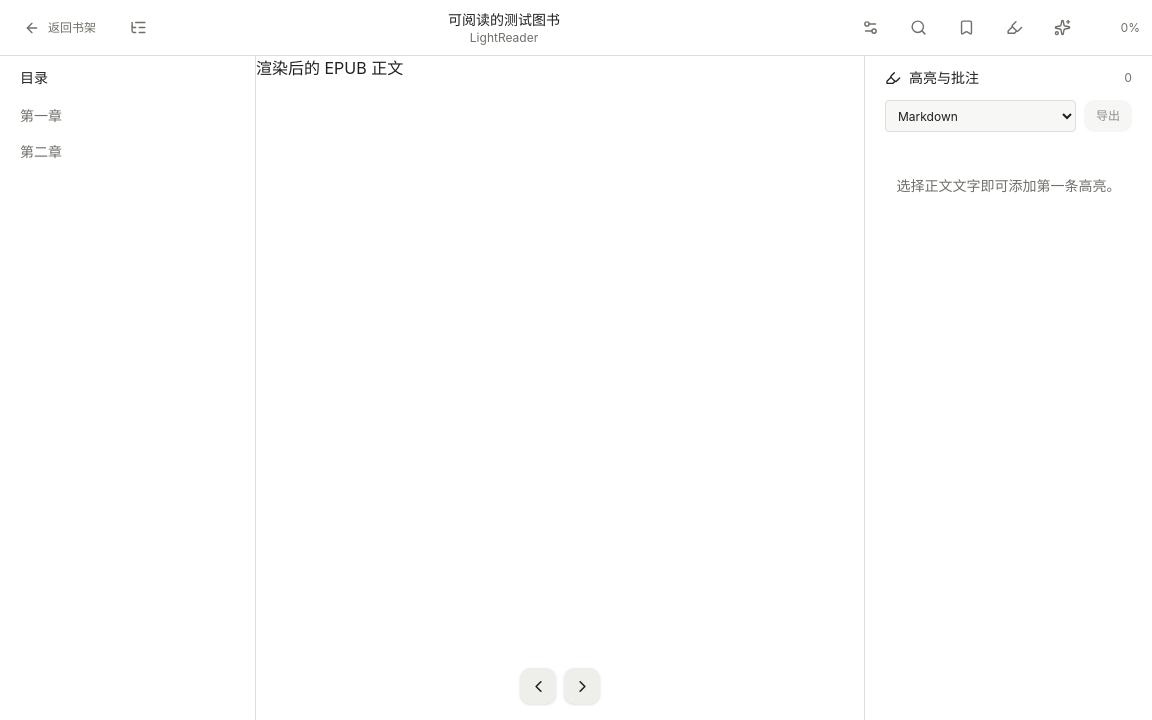
Test case: ReaderPage › uses one accessible right sidebar and restores focus after closing AI
Check: the button "第一章" is shown, box [12,100,243,132]
Click the button named "显示 AI 助手" at (1062, 28), box [1044,10,1080,46]
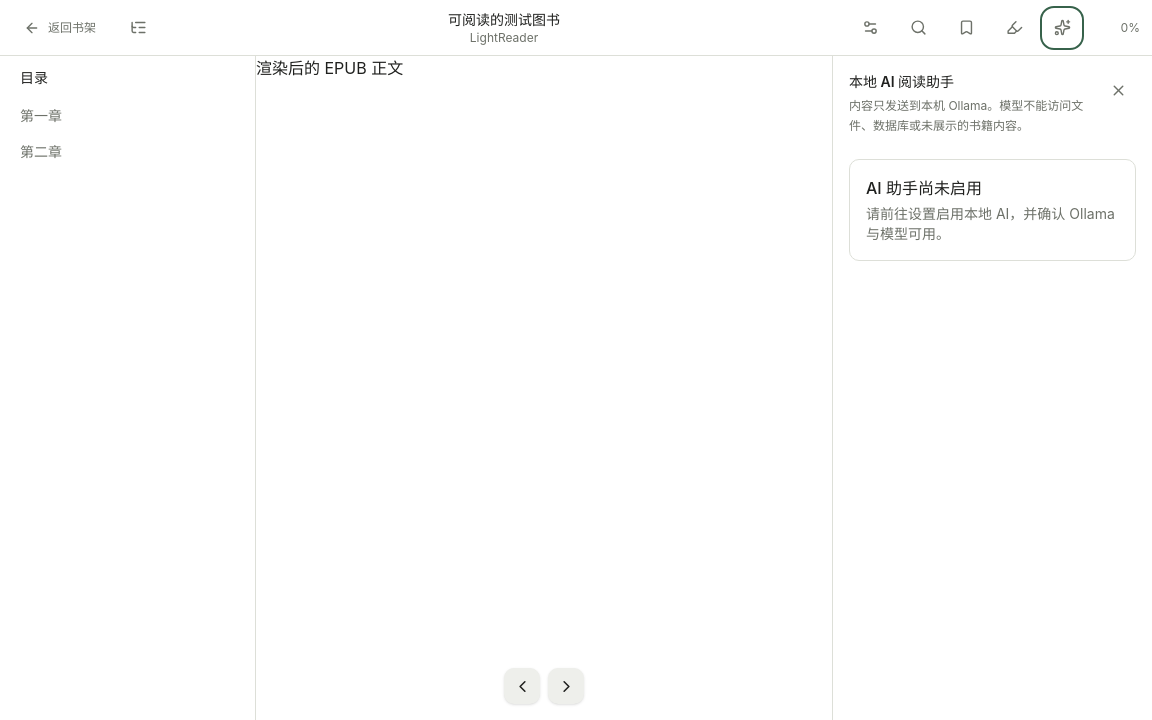
Check: the element "本地 AI 阅读助手" is shown, box [832,56,1151,719]
Check: the heading labelled "高亮与批注" is gone
Click the button named "关闭 AI 阅读助手" at (1118, 90), box [1100,72,1136,108]
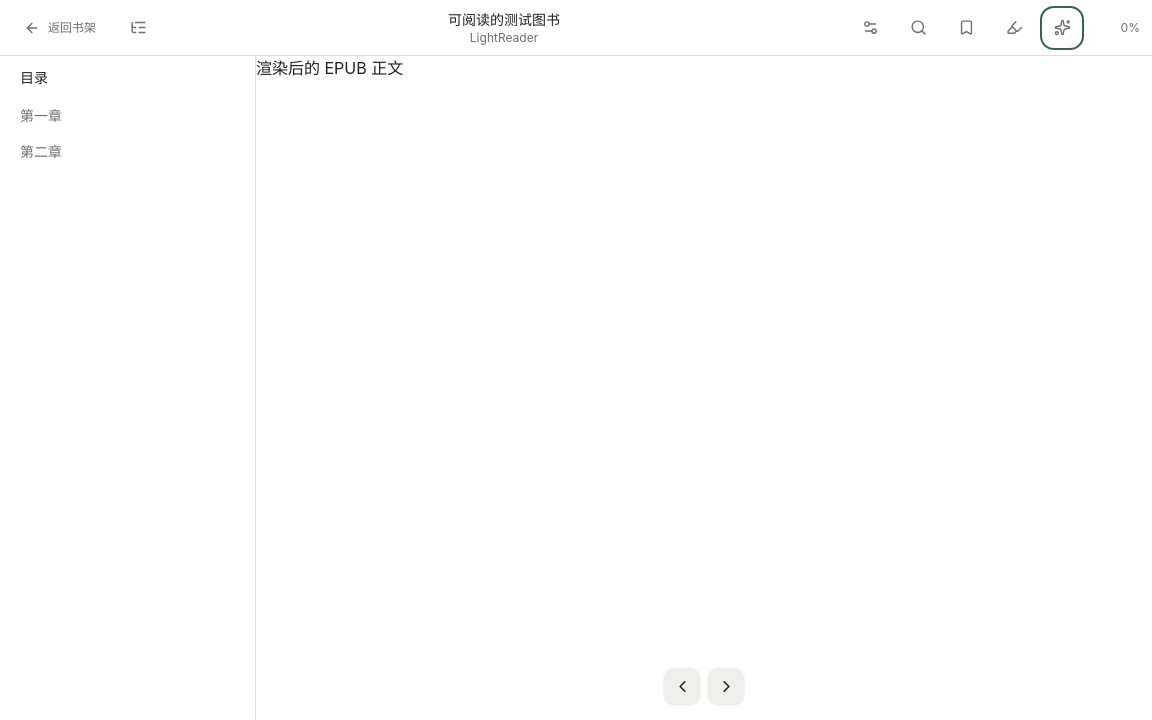
Check: the heading "本地 AI 阅读助手" is gone
